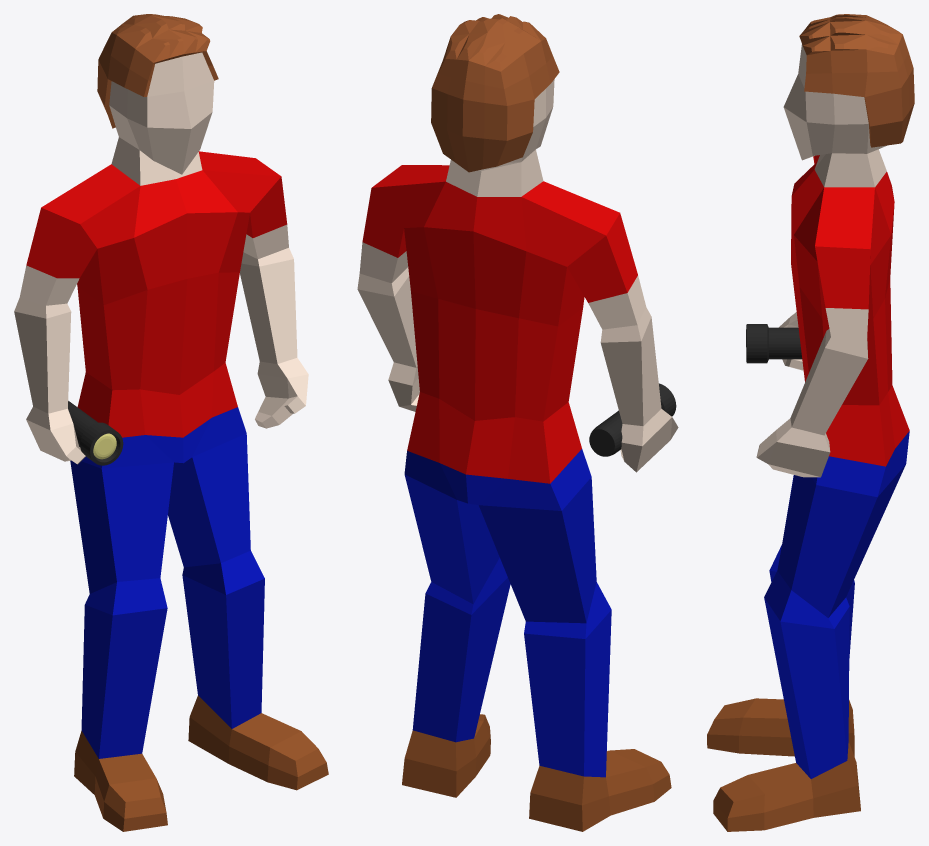
The model's file is Human_grabbing_59.fbx.
3 views of the same model, side by side, from view 1: azimuth 30°, elevation 25°; view 2: azimuth 150°, elevation 25°; view 3: azimuth 270°, elevation 25° (orthographic). The views are drawn at different scales.
Parts seen in each view (by area): view 1: Person.003, Cylinder.002; view 2: Person.003, Cylinder.002; view 3: Person.003, Cylinder.002.
Boxes of the visible parts, x1,y1,x2,y2 form: Person.003: (14,14,328,831); Cylinder.002: (68,401,123,465); Person.003: (357,14,678,831); Cylinder.002: (589,383,676,456); Person.003: (707,14,914,831); Cylinder.002: (746,324,802,363).
Bounding box in the file's own units: 0.5865 × 1.58 × 0.3897.
